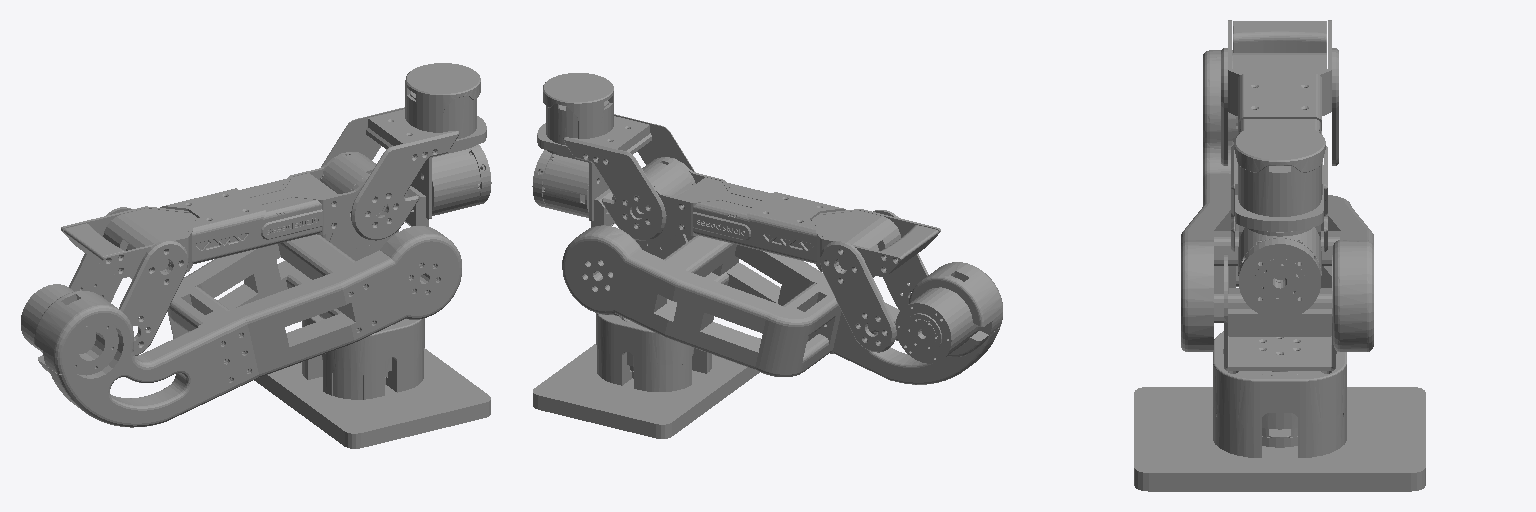
URDF robot description (reBot):
<?xml version="1.0" encoding="utf-8"?>
<!-- This URDF was automatically created by SolidWorks to URDF Exporter! Originally created by Stephen Brawner (brawner@gmail.com) 
     Commit Version: 1.6.0-4-g7f85cfe  Build Version: 1.6.7995.38578
     For more information, please see http://wiki.ros.org/sw_urdf_exporter -->
<robot
  name="reBot">
  <link
    name="base_link">
    <inertial>
      <origin
        xyz="3.0244E-08 -1.8607E-05 0.023658"
        rpy="0 0 0" />
      <mass
        value="0.71864" />
      <inertia
        ixx="0.0016035"
        ixy="-1.1549E-08"
        ixz="3.9617E-10"
        iyy="0.00092318"
        iyz="-2.7765E-07"
        izz="0.0023446" />
    </inertial>
    <visual>
      <origin
        xyz="0 0 0"
        rpy="0 0 0" />
      <geometry>
        <mesh
          filename="package://reBot/meshes/base_link.STL" />
      </geometry>
      <material
        name="">
        <color
          rgba="0.62745 0.62745 0.62745 1" />
      </material>
    </visual>
    <collision>
      <origin
        xyz="0 0 0"
        rpy="0 0 0" />
      <geometry>
        <mesh
          filename="package://reBot/meshes/base_link.STL" />
      </geometry>
    </collision>
  </link>
  <link
    name="Link1">
    <inertial>
      <origin
        xyz="0.001987 5.0452E-07 -0.030934"
        rpy="0 0 0" />
      <mass
        value="0.060251" />
      <inertia
        ixx="7.2046E-05"
        ixy="-1.7551E-10"
        ixz="7.2041E-06"
        iyy="3.9696E-05"
        iyz="4.4694E-10"
        izz="6.7575E-05" />
    </inertial>
    <visual>
      <origin
        xyz="0 0 0"
        rpy="0 0 0" />
      <geometry>
        <mesh
          filename="package://reBot/meshes/Link1.STL" />
      </geometry>
      <material
        name="">
        <color
          rgba="0.62745 0.62745 0.62745 1" />
      </material>
    </visual>
    <collision>
      <origin
        xyz="0 0 0"
        rpy="0 0 0" />
      <geometry>
        <mesh
          filename="package://reBot/meshes/Link1.STL" />
      </geometry>
    </collision>
  </link>
  <joint
    name="Joint1"
    type="revolute">
    <origin
      xyz="0 0 0.1245"
      rpy="0 0 3.1416" />
    <parent
      link="base_link" />
    <child
      link="Link1" />
    <axis
      xyz="0 0 1" />
    <limit
      lower="0"
      upper="0"
      effort="0"
      velocity="0" />
  </joint>
  <link
    name="Link2">
    <inertial>
      <origin
        xyz="0.133464625866704 0.00308937202589413 0.000687469222568574"
        rpy="0 0 0" />
      <mass
        value="0.744162666971991" />
      <inertia
        ixx="0.000260999236130728"
        ixy="4.1803013703388E-06"
        ixz="2.34862289254542E-10"
        iyy="0.00209760751771115"
        iyz="-4.3711128404059E-07"
        izz="0.00209695383002008" />
    </inertial>
    <visual>
      <origin
        xyz="0 0 0"
        rpy="0 0 0" />
      <geometry>
        <mesh
          filename="package://reBot/meshes/Link2.STL" />
      </geometry>
      <material
        name="">
        <color
          rgba="0.627450980392157 0.627450980392157 0.627450980392157 1" />
      </material>
    </visual>
    <collision>
      <origin
        xyz="0 0 0"
        rpy="0 0 0" />
      <geometry>
        <mesh
          filename="package://reBot/meshes/Link2.STL" />
      </geometry>
    </collision>
  </link>
  <joint
    name="Joint2"
    type="revolute">
    <origin
      xyz="-0.02 0 0"
      rpy="1.5708 0 0" />
    <parent
      link="Link1" />
    <child
      link="Link2" />
    <axis
      xyz="0 0 1" />
    <limit
      lower="0"
      upper="0"
      effort="0"
      velocity="0" />
  </joint>
  <link
    name="Link3">
    <inertial>
      <origin
        xyz="-0.131200960467203 0.0266180692454115 0.000486763491741413"
        rpy="0 0 0" />
      <mass
        value="0.526088988004696" />
      <inertia
        ixx="0.000211286496186713"
        ixy="-0.000229180361937972"
        ixz="6.11886097228137E-08"
        iyy="0.00127272230204212"
        iyz="-2.70244924572551E-07"
        izz="0.00132314392481421" />
    </inertial>
    <visual>
      <origin
        xyz="0 0 0"
        rpy="0 0 0" />
      <geometry>
        <mesh
          filename="package://reBot/meshes/Link3.STL" />
      </geometry>
      <material
        name="">
        <color
          rgba="0.627450980392157 0.627450980392157 0.627450980392157 1" />
      </material>
    </visual>
    <collision>
      <origin
        xyz="0 0 0"
        rpy="0 0 0" />
      <geometry>
        <mesh
          filename="package://reBot/meshes/Link3.STL" />
      </geometry>
    </collision>
  </link>
  <joint
    name="Joint3"
    type="revolute">
    <origin
      xyz="0.264 0 0"
      rpy="0 0 -0.21902" />
    <parent
      link="Link2" />
    <child
      link="Link3" />
    <axis
      xyz="0 0 1" />
    <limit
      lower="0"
      upper="0"
      effort="0"
      velocity="0" />
  </joint>
  <link
    name="Link4">
    <inertial>
      <origin
        xyz="-0.062833608536219 0.0535441723483397 -0.000256649124591804"
        rpy="0 0 0" />
      <mass
        value="0.18574085248192" />
      <inertia
        ixx="7.966519613982E-05"
        ixy="1.81141765590471E-05"
        ixz="-4.06307969393994E-08"
        iyy="0.000112303461385167"
        iyz="1.27039464954321E-07"
        izz="0.000108933312687588" />
    </inertial>
    <visual>
      <origin
        xyz="0 0 0"
        rpy="0 0 0" />
      <geometry>
        <mesh
          filename="package://reBot/meshes/Link4.STL" />
      </geometry>
      <material
        name="">
        <color
          rgba="0.627450980392157 0.627450980392157 0.627450980392157 1" />
      </material>
    </visual>
    <collision>
      <origin
        xyz="0 0 0"
        rpy="0 0 0" />
      <geometry>
        <mesh
          filename="package://reBot/meshes/Link4.STL" />
      </geometry>
    </collision>
  </link>
  <joint
    name="Joint4"
    type="revolute">
    <origin
      xyz="-0.24854 0 0"
      rpy="0 0 0.21902" />
    <parent
      link="Link3" />
    <child
      link="Link4" />
    <axis
      xyz="0 0 1" />
    <limit
      lower="0"
      upper="0"
      effort="0"
      velocity="0" />
  </joint>
  <link
    name="Link5">
    <inertial>
      <origin
        xyz="9.25757852037946E-05 0.00177983360892567 -0.000401468264380173"
        rpy="0 0 0" />
      <mass
        value="0.144440209301369" />
      <inertia
        ixx="5.04662432487401E-05"
        ixy="-2.77652781862721E-07"
        ixz="1.15460199088396E-08"
        iyy="6.14533212841602E-05"
        iyz="-3.10150692474122E-06"
        izz="4.86549201379931E-05" />
    </inertial>
    <visual>
      <origin
        xyz="0 0 0"
        rpy="0 0 0" />
      <geometry>
        <mesh
          filename="package://reBot/meshes/Link5.STL" />
      </geometry>
      <material
        name="">
        <color
          rgba="0.627450980392157 0.627450980392157 0.627450980392157 1" />
      </material>
    </visual>
    <collision>
      <origin
        xyz="0 0 0"
        rpy="0 0 0" />
      <geometry>
        <mesh
          filename="package://reBot/meshes/Link5.STL" />
      </geometry>
    </collision>
  </link>
  <joint
    name="Joint5"
    type="revolute">
    <origin
      xyz="-0.078308 -0.0025 0"
      rpy="1.5708 1.5708 0" />
    <parent
      link="Link4" />
    <child
      link="Link5" />
    <axis
      xyz="0 0 1" />
    <limit
      lower="0"
      upper="0"
      effort="0"
      velocity="0" />
  </joint>
  <link
    name="Link6">
    <inertial>
      <origin
        xyz="3.4207E-05 7.2805E-05 0.062738"
        rpy="0 0 0" />
      <mass
        value="0.24472" />
      <inertia
        ixx="6.8558E-05"
        ixy="3.2525E-08"
        ixz="2.7765E-07"
        iyy="0.00021371"
        iyz="-2.9464E-09"
        izz="0.00022931" />
    </inertial>
    <visual>
      <origin
        xyz="0 0 0"
        rpy="0 0 0" />
      <geometry>
        <mesh
          filename="package://reBot/meshes/Link6.STL" />
      </geometry>
      <material
        name="">
        <color
          rgba="0.62745 0.62745 0.62745 1" />
      </material>
    </visual>
    <collision>
      <origin
        xyz="0 0 0"
        rpy="0 0 0" />
      <geometry>
        <mesh
          filename="package://reBot/meshes/Link6.STL" />
      </geometry>
    </collision>
  </link>
  <joint
    name="Joint6"
    type="revolute">
    <origin
      xyz="0 -0.020692 0"
      rpy="1.5708 0 0" />
    <parent
      link="Link5" />
    <child
      link="Link6" />
    <axis
      xyz="0 0 1" />
    <limit
      lower="0"
      upper="0"
      effort="0"
      velocity="0" />
  </joint>
</robot>

--- Render facts (derived) ---
3 views of the same robot in one strip: view 1: azimuth 30°, elevation 25°; view 2: azimuth 150°, elevation 25°; view 3: azimuth 270°, elevation 25° (orthographic).
Model reBot with 7 links and 6 joints (6 revolute), rooted at base_link, posed every joint at zero.
Links seen in each view (by area): view 1: Link2, Link3, base_link, Link4, Link5, Link1; view 2: Link2, Link3, base_link, Link4, Link5, Link1; view 3: base_link, Link2, Link3, Link4, Link1, Link5, Link6.
Link boxes in pixels (left/top/right/bottom): Link2: left=21, top=226, right=461, bottom=427; Link3: left=61, top=152, right=407, bottom=355; base_link: left=254, top=315, right=490, bottom=448; Link4: left=321, top=63, right=486, bottom=240; Link5: left=405, top=144, right=491, bottom=226; Link1: left=329, top=232, right=390, bottom=260; Link2: left=562, top=225, right=1002, bottom=384; Link3: left=612, top=157, right=940, bottom=352; base_link: left=533, top=313, right=760, bottom=438; Link4: left=537, top=73, right=695, bottom=240; Link5: left=532, top=150, right=614, bottom=227; Link1: left=614, top=234, right=687, bottom=316; base_link: left=1134, top=331, right=1425, bottom=491; Link2: left=1181, top=50, right=1373, bottom=351; Link3: left=1221, top=20, right=1338, bottom=239; Link4: left=1231, top=123, right=1327, bottom=251; Link1: left=1224, top=254, right=1335, bottom=370; Link5: left=1238, top=227, right=1321, bottom=318; Link6: left=1254, top=259, right=1305, bottom=304.
Bounding box of the posed robot: 0.4383 × 0.2 × 0.268 m (x, y, z).
Meshes: 7 distinct files referenced, 7 mesh visuals loaded (7 binary STL).
